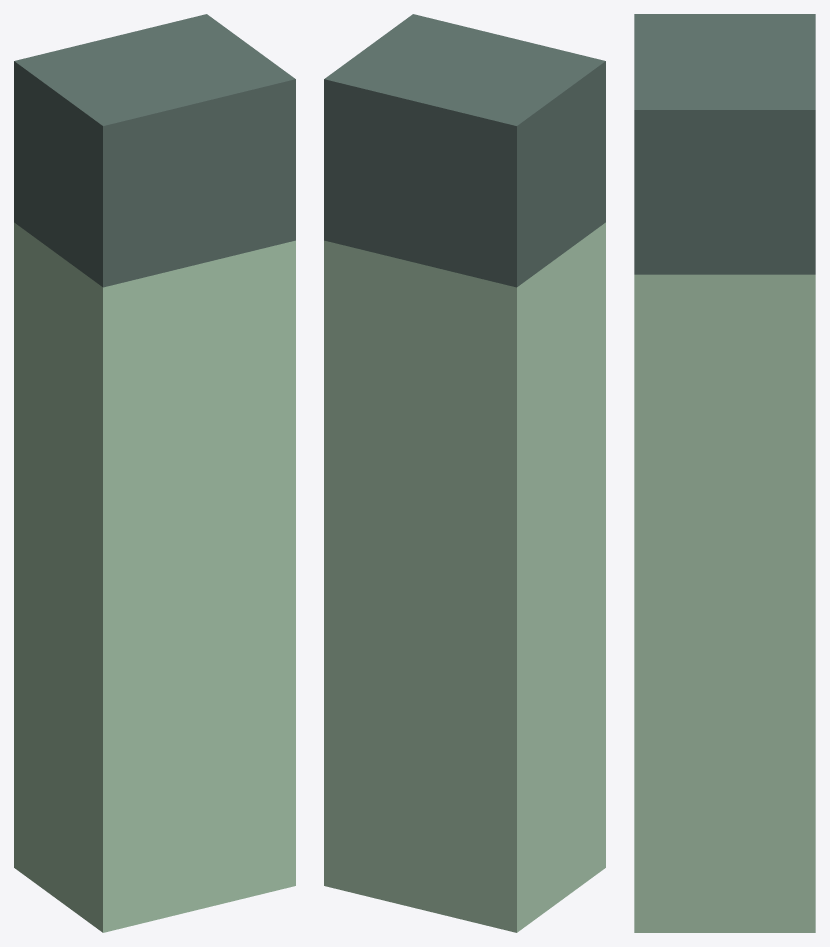
Rendered from Wall2mHalfmWidth.fbx.
The picture shows the model from 3 angles, left to right: view 1: azimuth 30°, elevation 25°; view 2: azimuth 150°, elevation 25°; view 3: azimuth 270°, elevation 25°; orthographic projection. The views are drawn at different scales.
Visible parts, largest first — view 1: Wall2mHalfmWidth; view 2: Wall2mHalfmWidth; view 3: Wall2mHalfmWidth.
Part boxes in pixels (x1=…): Wall2mHalfmWidth: x1=14, y1=14, x2=295, y2=932; Wall2mHalfmWidth: x1=324, y1=14, x2=605, y2=932; Wall2mHalfmWidth: x1=634, y1=14, x2=815, y2=932.
Size of the model in its own units: 0.5 by 2 by 0.4.
